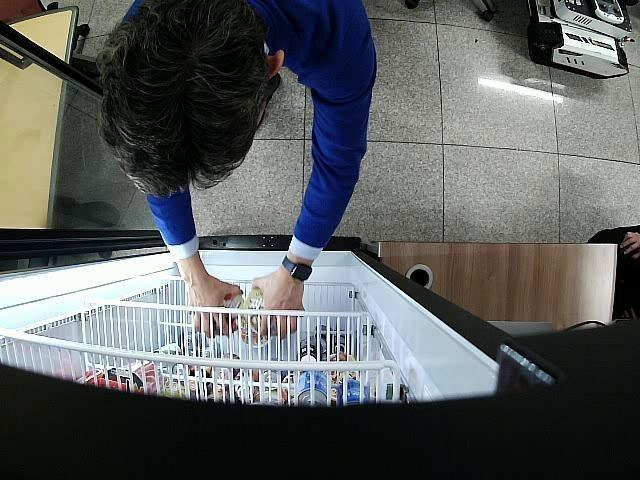03_chapagetti_L: (194, 294, 244, 336), (242, 287, 278, 336)
